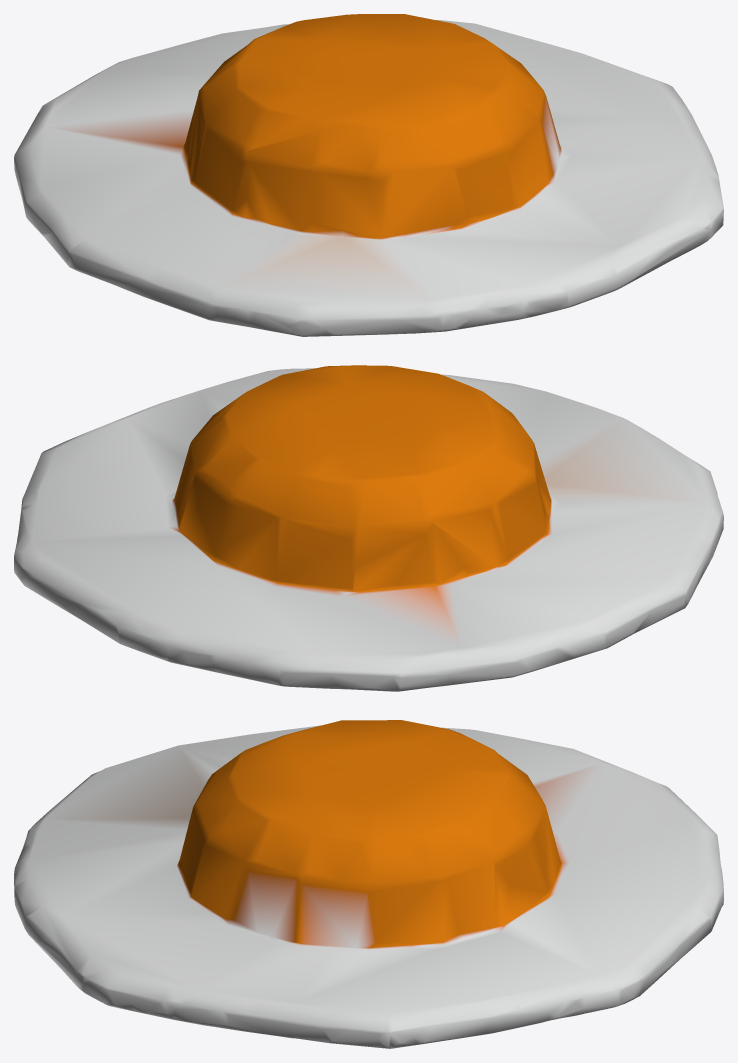
File: gen3d-fried-egg-lod1.glb
3 views of the same model, one above another, from view 1: azimuth 30°, elevation 25°; view 2: azimuth 150°, elevation 25°; view 3: azimuth 270°, elevation 25° (orthographic).
Visible parts, largest first — view 1: part_0; view 2: part_0; view 3: part_0.
Part boxes in pixels (box(x1,y1,x2,y2)): part_0: box(14, 14, 723, 336); part_0: box(14, 365, 723, 691); part_0: box(14, 720, 723, 1048).
Bounding box in the file's own units: 5.11 × 0.9998 × 4.97.
